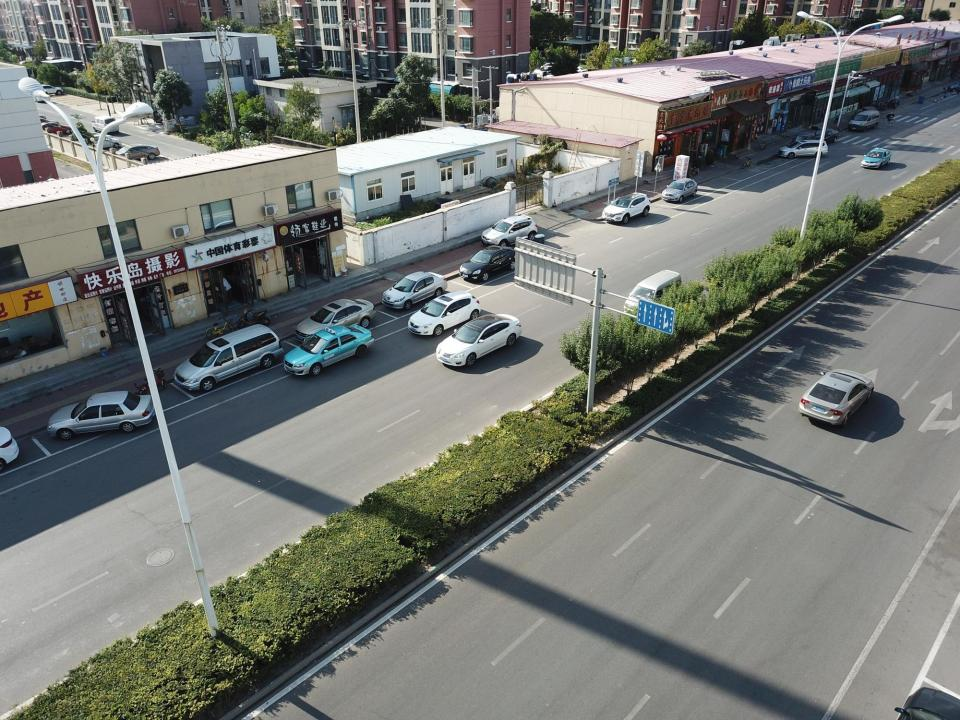car: (47, 391, 156, 441), (284, 324, 374, 377), (436, 313, 522, 367), (798, 369, 874, 428), (295, 298, 377, 343), (408, 290, 481, 336), (382, 270, 448, 310), (459, 245, 519, 282), (482, 215, 538, 248), (602, 192, 650, 223), (777, 140, 828, 160), (106, 144, 161, 160), (661, 178, 697, 202), (860, 147, 892, 169), (74, 135, 122, 148), (800, 128, 838, 144), (29, 122, 73, 134), (29, 85, 63, 95)
van: (173, 324, 284, 393), (624, 270, 682, 320), (848, 110, 880, 131), (92, 116, 119, 134)
